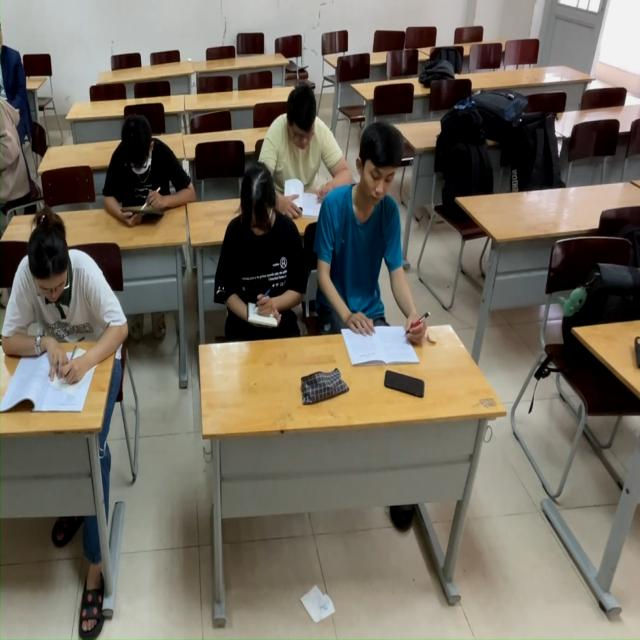read: (315, 119, 432, 361), (1, 212, 130, 421), (213, 157, 311, 354), (96, 105, 195, 237), (259, 78, 354, 212)
